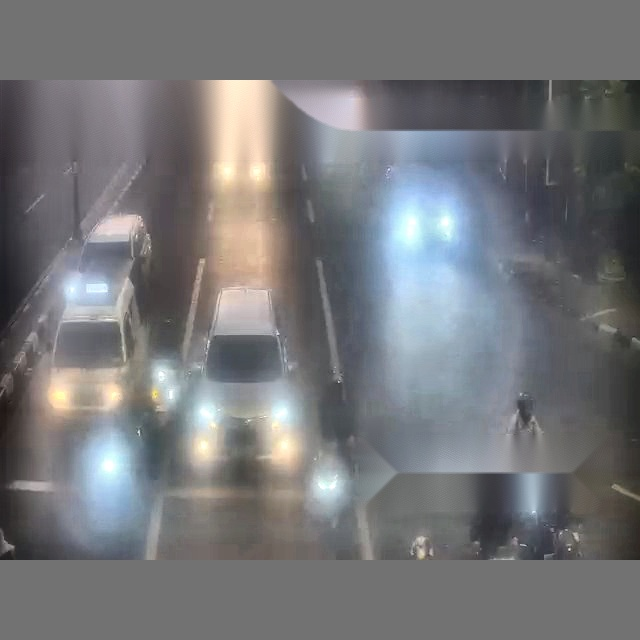Mobil: (192, 289, 296, 464)
